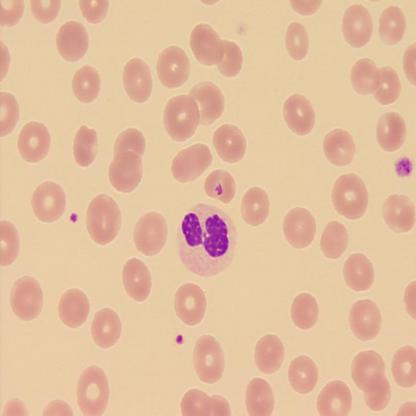Segmented neutrophil: (174, 201, 237, 277)
